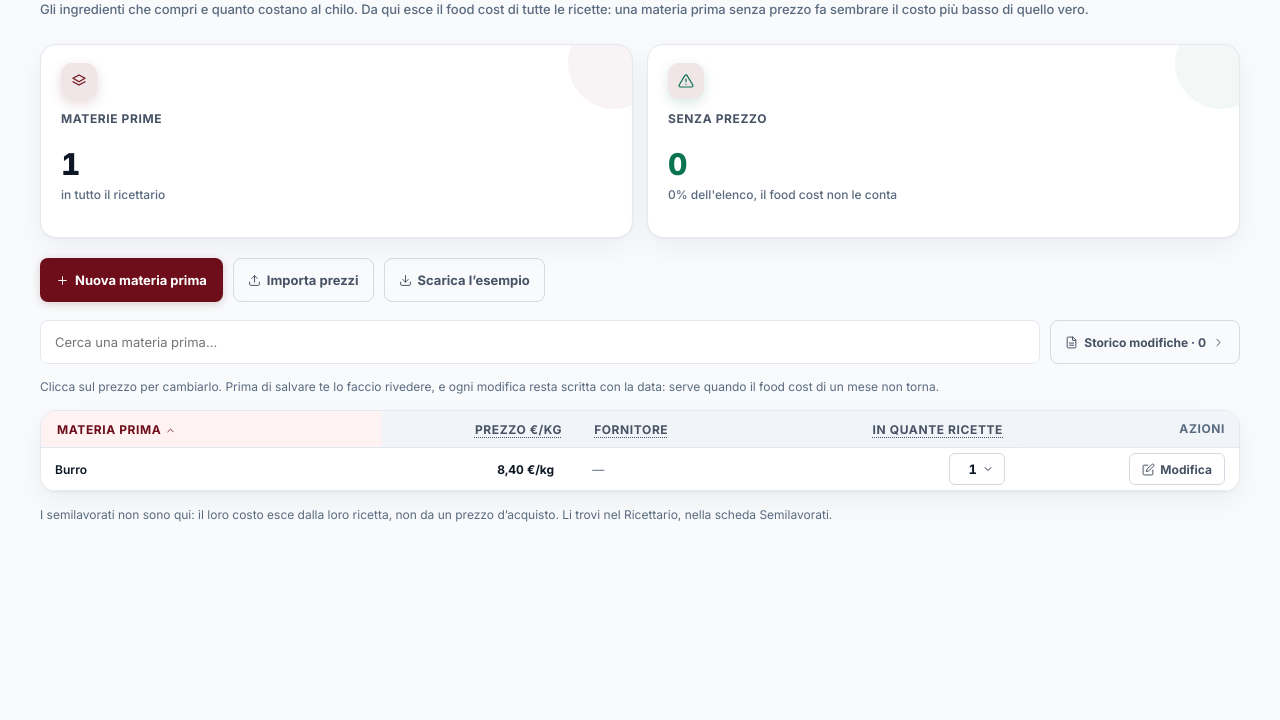
Test: materie prime — scrivere l'anno nella data di decorrenza › il campo della data esiste, si chiama per esteso e parte da oggi
Click the button titled "Clicca per modificare" at (526, 469), box [497, 462, 554, 477]
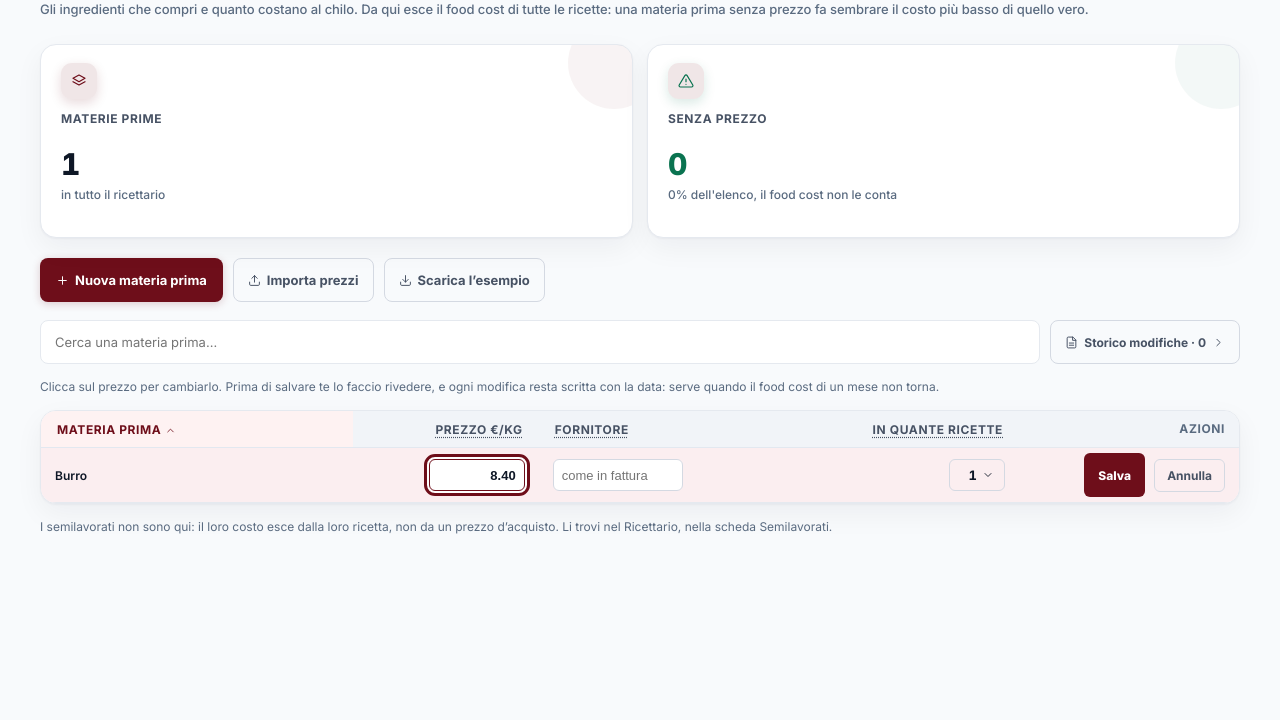
Replace the text in the field named "Prezzo per chilo di burro" with "9,50" at (477, 475), box [429, 459, 525, 491]
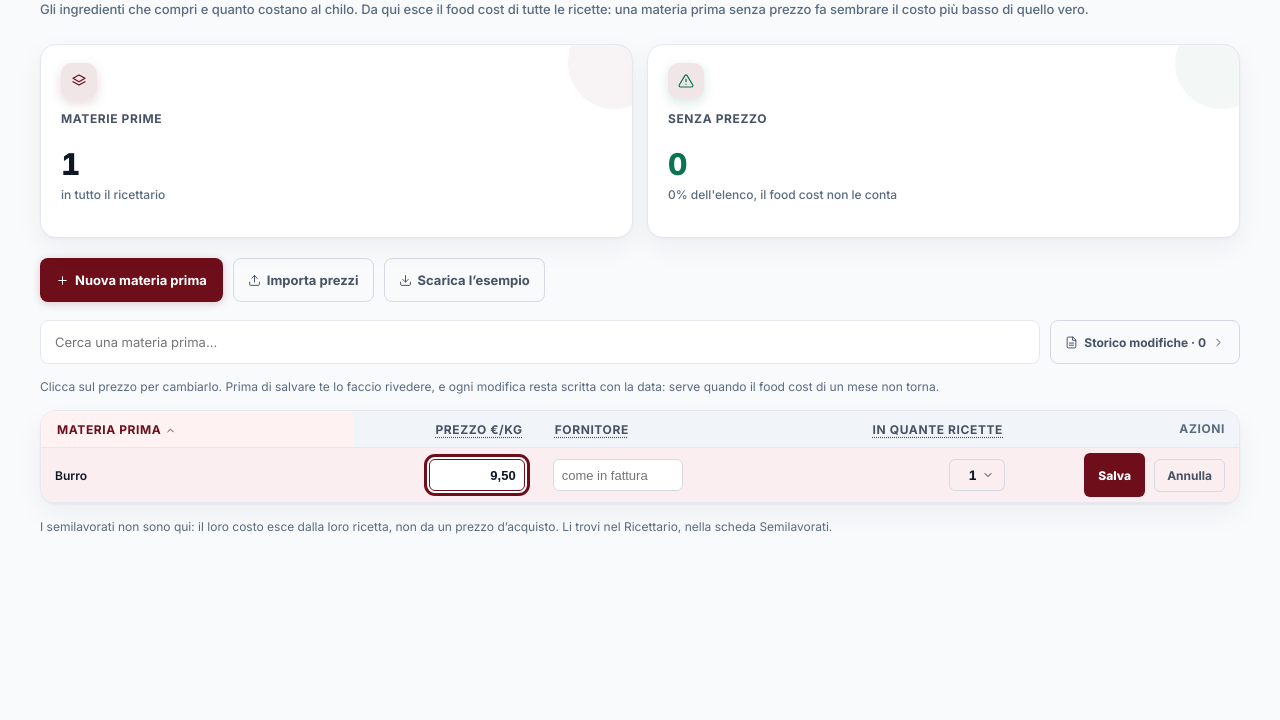
Press Enter in the field named "Prezzo per chilo di burro", box [429, 459, 525, 491]
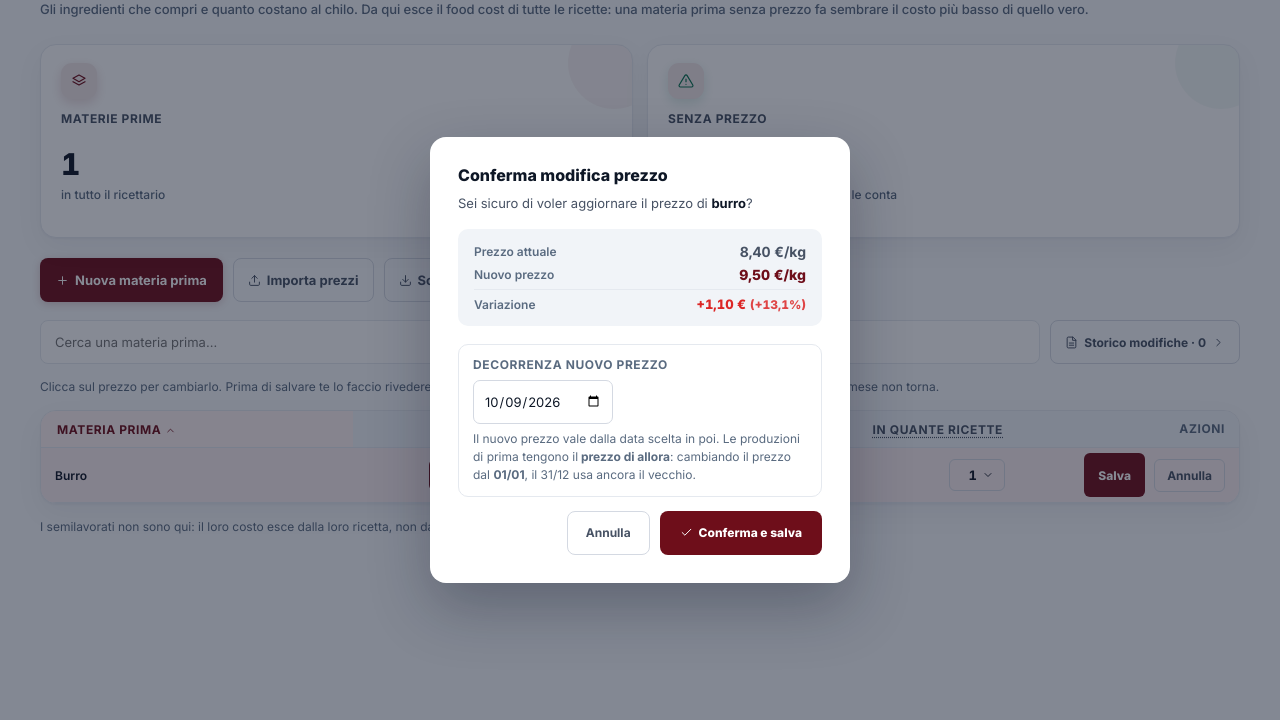
Now the date field with id "mp-decorre" is shown, box [473, 380, 613, 424]
